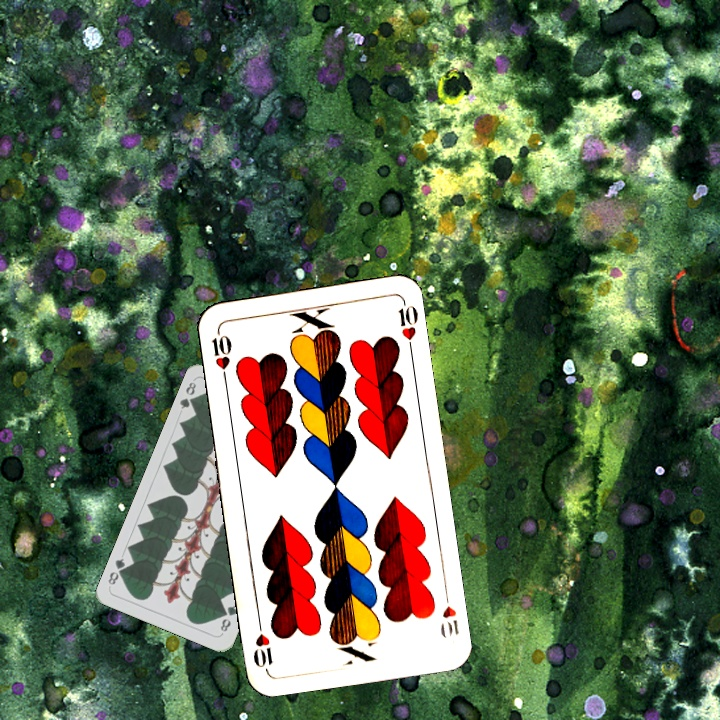G8: (216, 601, 240, 636), (176, 378, 200, 411)
H10: (208, 325, 234, 384), (436, 586, 461, 641)
